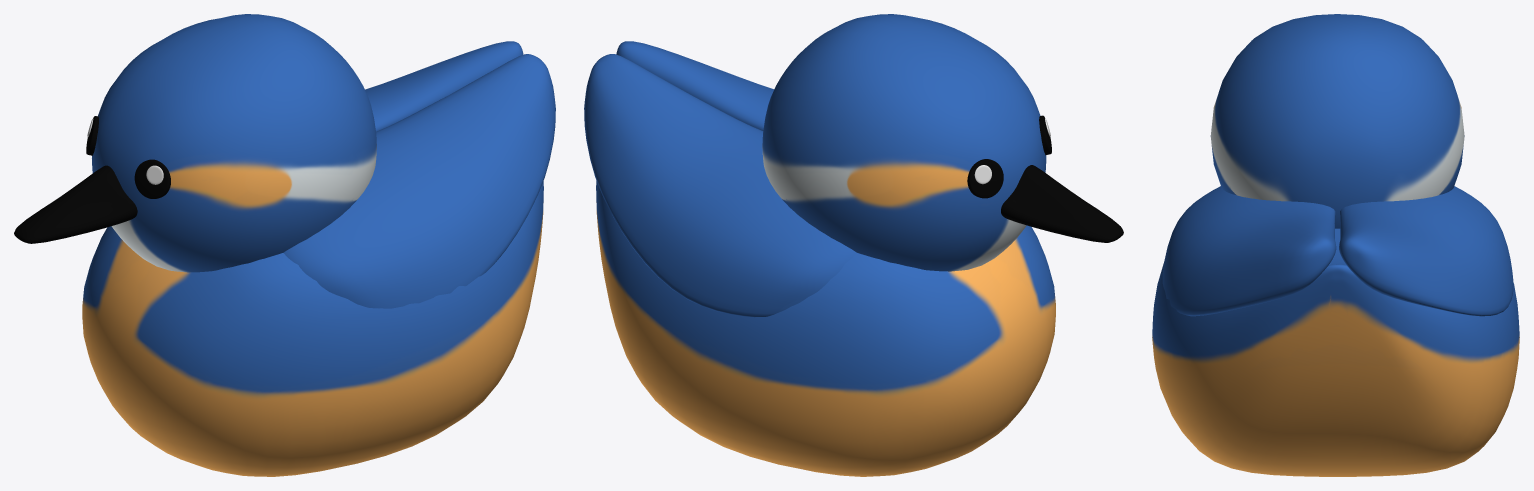
File: water_gun_bird.fbx
3 views of the same model, side by side, from view 1: azimuth 30°, elevation 25°; view 2: azimuth 150°, elevation 25°; view 3: azimuth 270°, elevation 25° (orthographic). The views are drawn at different scales.
Parts seen in each view (by area): view 1: Sphere.006; view 2: Sphere.006; view 3: Sphere.006.
Part boxes in pixels (x1,y1,x2,y2): Sphere.006: (14, 14, 555, 476); Sphere.006: (584, 14, 1123, 476); Sphere.006: (1152, 14, 1519, 476).
Bounding box in the file's own units: 39.68 × 30.97 × 25.59.
5 materials, 2 textured.
